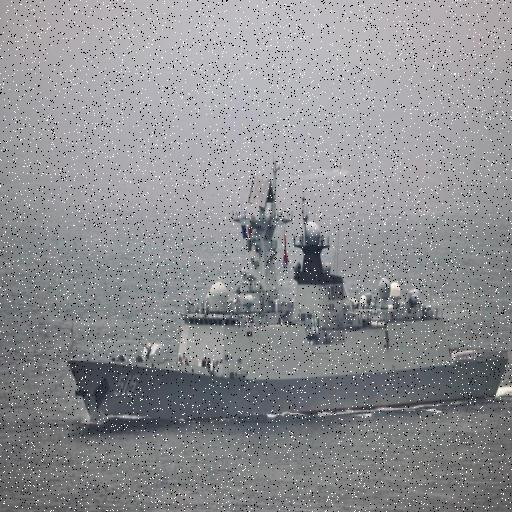Fragata: (68, 152, 510, 427)
